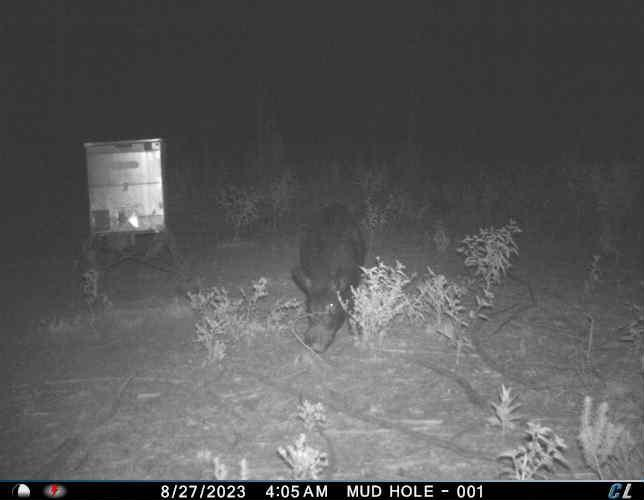Hog: (292, 198, 375, 355)
